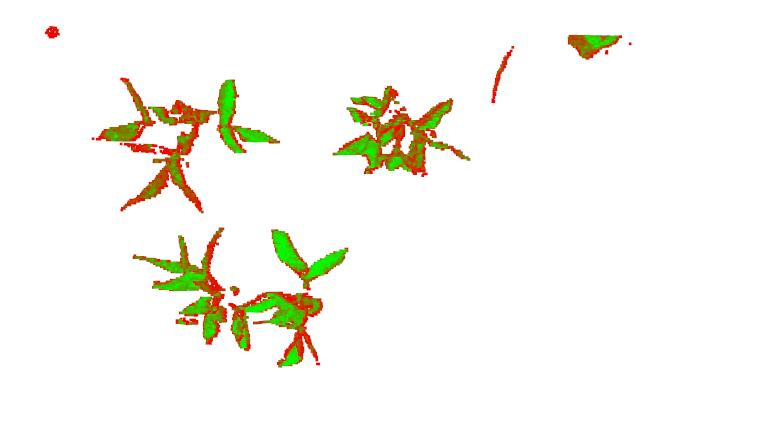mungbean: (94, 77, 280, 214), (131, 226, 254, 352), (249, 230, 348, 381), (332, 85, 471, 181)
